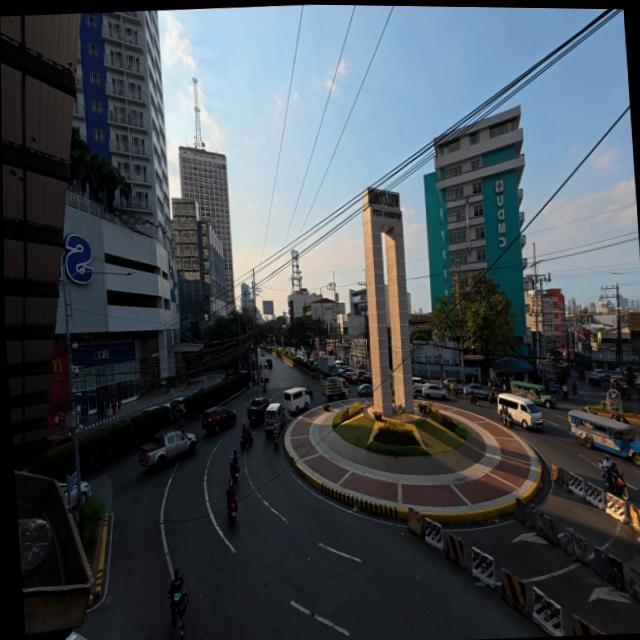car: (201, 406, 237, 436), (465, 383, 490, 402), (423, 383, 449, 401)
vans: (495, 392, 545, 432)
